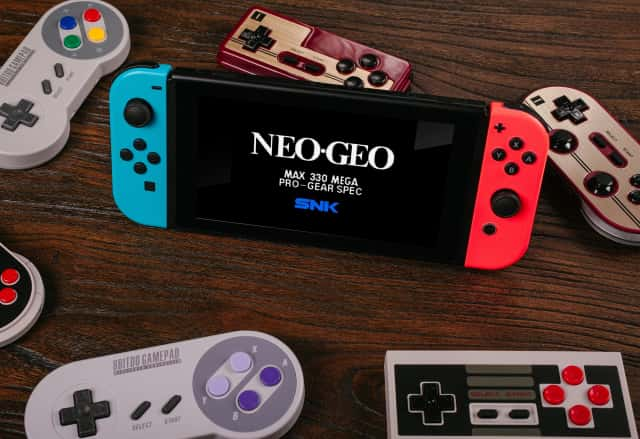NintendoSwitch: (99, 58, 552, 275)
